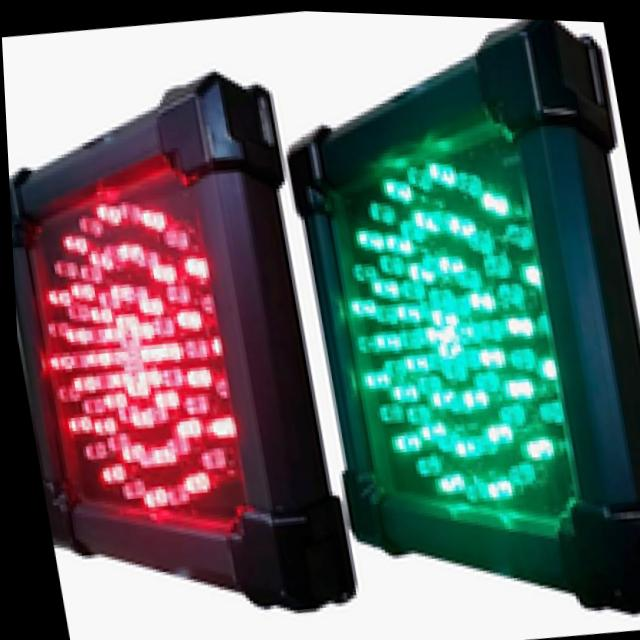green_light: (228, 52, 620, 560)
red_light: (6, 137, 290, 551)
